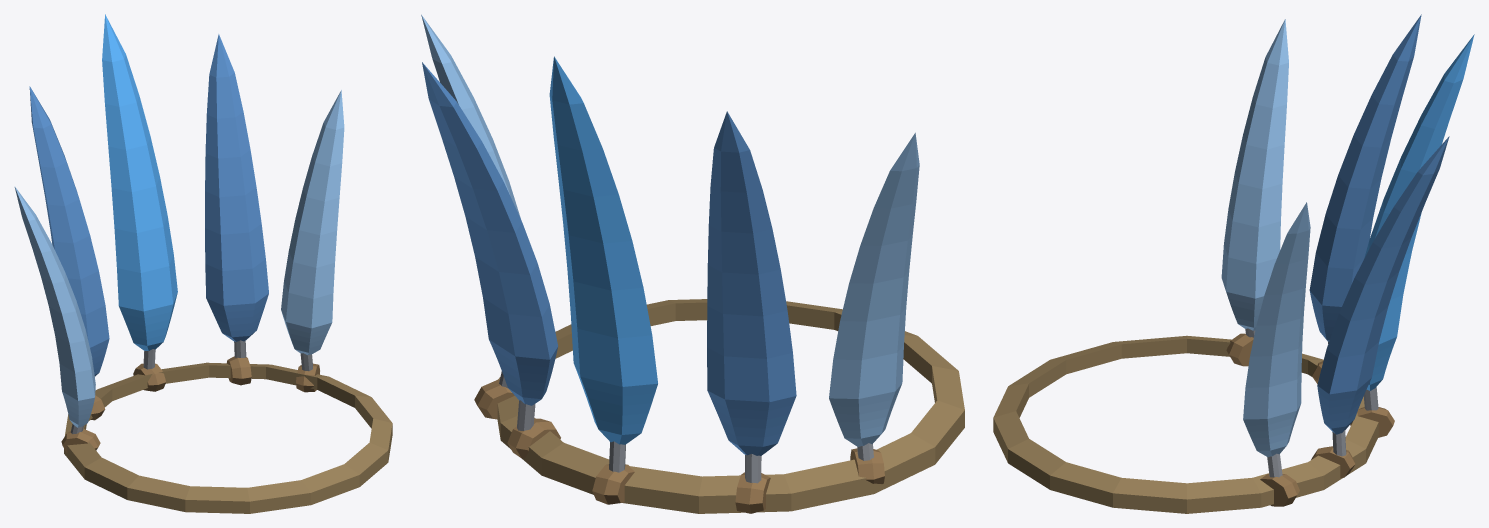
File: Cosmetic_FeatherCrown.glb
The picture shows the model from 3 angles, left to right: view 1: azimuth 30°, elevation 25°; view 2: azimuth 150°, elevation 25°; view 3: azimuth 270°, elevation 25°; orthographic projection. The views are drawn at different scales.
Visible parts, largest first — view 1: Chompy_Band, Chompy_Feather_90, Chompy_Feather_72, Chompy_Feather_50, Chompy_Feather_108, Chompy_Feather_130, Chompy_FeatherBase_90, Chompy_FeatherBase_72, Chompy_FeatherBase_50, Chompy_FeatherBase_130, Chompy_Wrap_72, Chompy_Wrap_90 (+1 smaller); view 2: Chompy_Band, Chompy_Feather_90, Chompy_Feather_108, Chompy_Feather_72, Chompy_Feather_130, Chompy_FeatherBase_90, Chompy_FeatherBase_108, Chompy_Feather_50, Chompy_FeatherBase_130, Chompy_FeatherBase_72, Chompy_Wrap_90, Chompy_Wrap_108 (+3 smaller); view 3: Chompy_Band, Chompy_Feather_130, Chompy_Feather_108, Chompy_Feather_72, Chompy_Feather_50, Chompy_Feather_90, Chompy_FeatherBase_50, Chompy_FeatherBase_72, Chompy_FeatherBase_130, Chompy_Wrap_50, Chompy_FeatherBase_108, Chompy_FeatherBase_90 (+3 smaller).
Part boxes in pixels (box(x1,y1,x2,y2)): Chompy_Band: box(64, 362, 392, 513); Chompy_Feather_90: box(102, 14, 177, 311); Chompy_Feather_72: box(205, 34, 268, 305); Chompy_Feather_50: box(281, 90, 344, 328); Chompy_Feather_108: box(29, 86, 109, 347); Chompy_Feather_130: box(14, 186, 95, 400); Chompy_FeatherBase_90: box(119, 293, 177, 350); Chompy_FeatherBase_72: box(206, 293, 268, 341); Chompy_FeatherBase_50: box(281, 311, 331, 355); Chompy_FeatherBase_130: box(62, 391, 94, 427); Chompy_Wrap_72: box(227, 356, 251, 385); Chompy_Wrap_90: box(133, 363, 166, 391); Chompy_Band: box(497, 299, 964, 513); Chompy_Feather_90: box(549, 56, 657, 386); Chompy_Feather_108: box(707, 111, 796, 402); Chompy_Feather_72: box(422, 62, 557, 359); Chompy_Feather_130: box(829, 132, 919, 398); Chompy_FeatherBase_90: box(574, 365, 657, 444); Chompy_FeatherBase_108: box(707, 390, 796, 455); Chompy_Feather_50: box(421, 14, 520, 218); Chompy_FeatherBase_130: box(829, 384, 901, 446); Chompy_FeatherBase_72: box(489, 339, 557, 405); Chompy_Wrap_90: box(592, 464, 634, 504); Chompy_Wrap_108: box(735, 472, 770, 513); Chompy_Band: box(993, 335, 1378, 513); Chompy_Feather_130: box(1221, 19, 1288, 298); Chompy_Feather_108: box(1309, 14, 1421, 306); Chompy_Feather_72: box(1317, 136, 1449, 394); Chompy_Feather_50: box(1243, 202, 1310, 419); Chompy_Feather_90: box(1364, 34, 1474, 344); Chompy_FeatherBase_50: box(1243, 404, 1300, 456); Chompy_FeatherBase_72: box(1317, 378, 1371, 434); Chompy_FeatherBase_130: box(1226, 292, 1263, 330); Chompy_Wrap_50: box(1260, 474, 1299, 506); Chompy_FeatherBase_108: box(1310, 291, 1341, 341); Chompy_FeatherBase_90: box(1366, 337, 1396, 390).
Size of the model in its own units: 0.3984 by 0.3895 by 0.4223.
